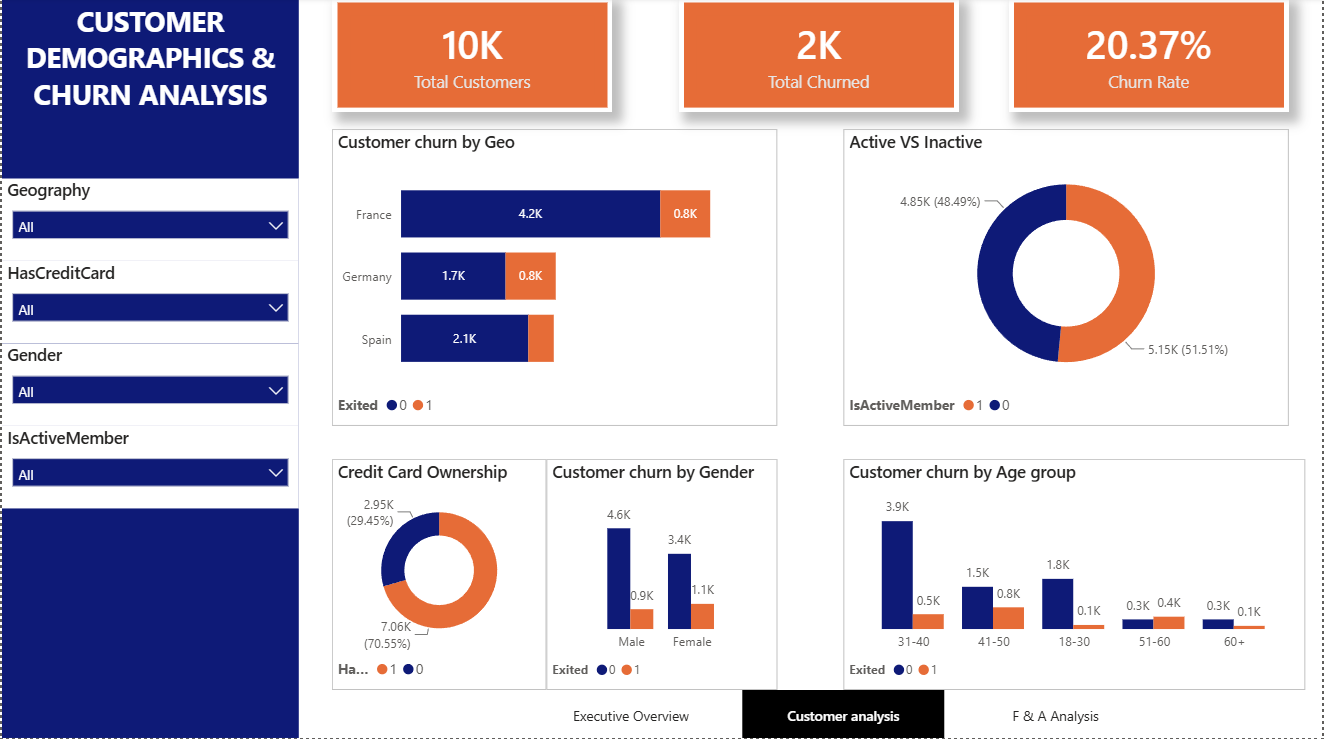

Layout of this report page (visuals, bound fields, positions):
{"tool":"powerbi","page":{"name":"Customer analysis","canvas":[1280,720],"ordinal":1},"visuals":[{"type":"textbox","box":[0,0,288,720],"z":0},{"type":"slicer","title":"Geography","fields":{"Values":["Bank_Churn.Geography"]},"box":[0,176,288,80],"z":1000},{"type":"slicer","title":"HasCreditCard","fields":{"Values":["Bank_Churn.HasCrCard"]},"box":[0,256,288,80],"z":2000},{"type":"slicer","title":"IsActiveMember","fields":{"Values":["Bank_Churn.IsActiveMember"]},"box":[0,416,288,80],"z":3000},{"type":"slicer","title":"Gender","fields":{"Values":["Bank_Churn.Gender"]},"box":[0,336,288,80],"z":4000},{"type":"clusteredColumnChart","title":"Customer churn by Gender","fields":{"Category":["Bank_Churn.Gender"],"Y":["CountNonNull(Bank_Churn.CustomerId)"],"Series":["Bank_Churn.Exited"]},"box":[528,448,224,224],"z":5000},{"type":"barChart","title":"Customer churn by Geo","fields":{"Category":["Bank_Churn.Geography"],"Y":["CountNonNull(Bank_Churn.CustomerId)"],"Series":["Bank_Churn.Exited"]},"box":[320,128,432,288],"z":6000},{"type":"donutChart","title":"Active VS Inactive","fields":{"Y":["CountNonNull(Bank_Churn.CustomerId)"],"Category":["Bank_Churn.IsActiveMember"]},"box":[816,128,432,288],"z":7000},{"type":"donutChart","title":"Credit Card Ownership","fields":{"Category":["Bank_Churn.HasCrCard"],"Y":["CountNonNull(Bank_Churn.CustomerId)"]},"box":[320,448,208,224],"z":8000},{"type":"clusteredColumnChart","title":"Customer churn by Age group","fields":{"Category":["Bank_Churn.Age_Group"],"Y":["CountNonNull(Bank_Churn.CustomerId)"],"Series":["Bank_Churn.Exited"]},"box":[816,448,448,224],"z":9000},{"type":"cardVisual","fields":{"Data":["Bank_Churn.Total Customers"]},"box":[320,0,272,112],"z":10000},{"type":"cardVisual","fields":{"Data":["Bank_Churn.Churn Rate"]},"box":[976,0,272,112],"z":11000},{"type":"cardVisual","fields":{"Data":["Bank_Churn.Total Churned"]},"box":[656,0,272,112],"z":12000},{"type":"pageNavigator","box":[512,672,608,48],"z":12001}]}

Visuals, with their boxes in screenshot pixels (x1, y1, x2, y2), scaled from the page's 1280x720 canvas onto the 1324x739 screenshot:
textbox: 0,0,298,738
"Geography" slicer: 0,181,298,263
"HasCreditCard" slicer: 0,263,298,345
"IsActiveMember" slicer: 0,427,298,509
"Gender" slicer: 0,345,298,427
"Customer churn by Gender" clusteredColumnChart: 546,460,778,690
"Customer churn by Geo" barChart: 331,131,778,427
"Active VS Inactive" donutChart: 844,131,1291,427
"Credit Card Ownership" donutChart: 331,460,546,690
"Customer churn by Age group" clusteredColumnChart: 844,460,1307,690
cardVisual - Bank_Churn.Total Customers: 331,0,612,115
cardVisual - Bank_Churn.Churn Rate: 1010,0,1291,115
cardVisual - Bank_Churn.Total Churned: 679,0,960,115
pageNavigator: 530,690,1158,738
